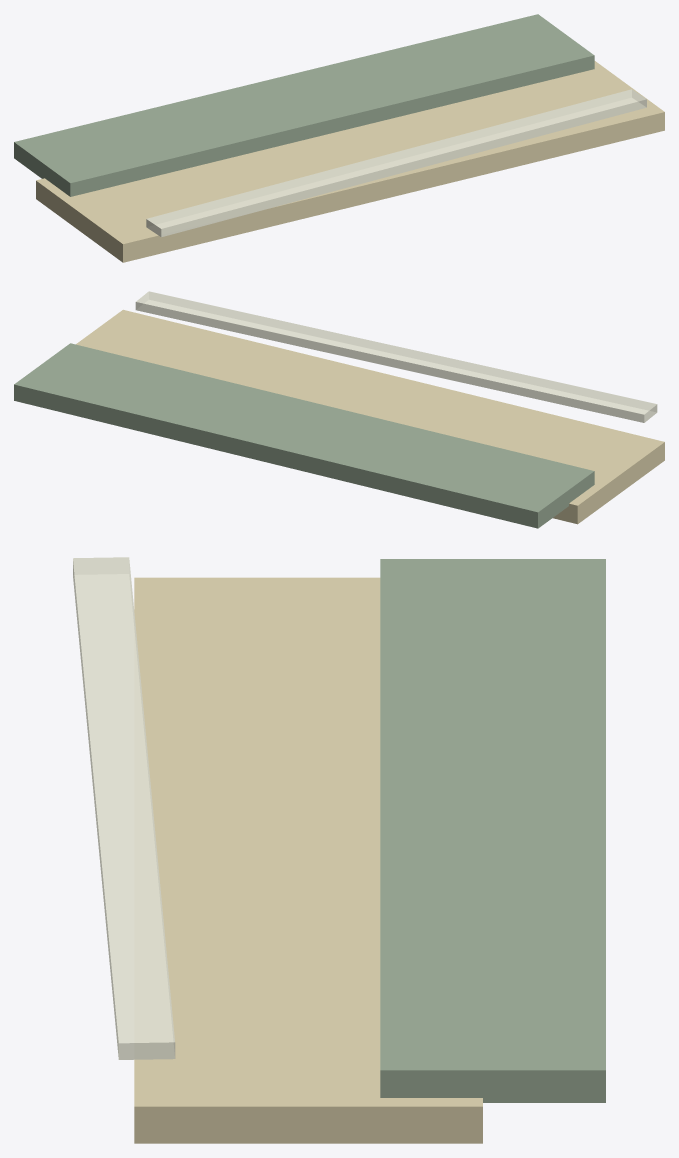
The model's file is transition-shoreline-lod1.glb.
3 views of the same model, one above another, from view 1: azimuth 30°, elevation 25°; view 2: azimuth 150°, elevation 25°; view 3: azimuth 270°, elevation 25° (orthographic). The views are drawn at different scales.
Visible parts, largest first — view 1: wet_ground, sand_shelf, foam_strip; view 2: wet_ground, sand_shelf, foam_strip; view 3: sand_shelf, wet_ground, foam_strip.
Part boxes in pixels (x1,y1,x2,y2): wet_ground: (14,14,594,196); sand_shelf: (36,61,664,262); foam_strip: (146,89,646,237); wet_ground: (14,343,594,528); sand_shelf: (76,309,664,524); foam_strip: (135,291,657,422); sand_shelf: (134,577,482,1143); wet_ground: (380,559,605,1102); foam_strip: (73,557,175,1059).
Bounding box in the file's own units: 1.22 × 0.085 × 0.5199.
